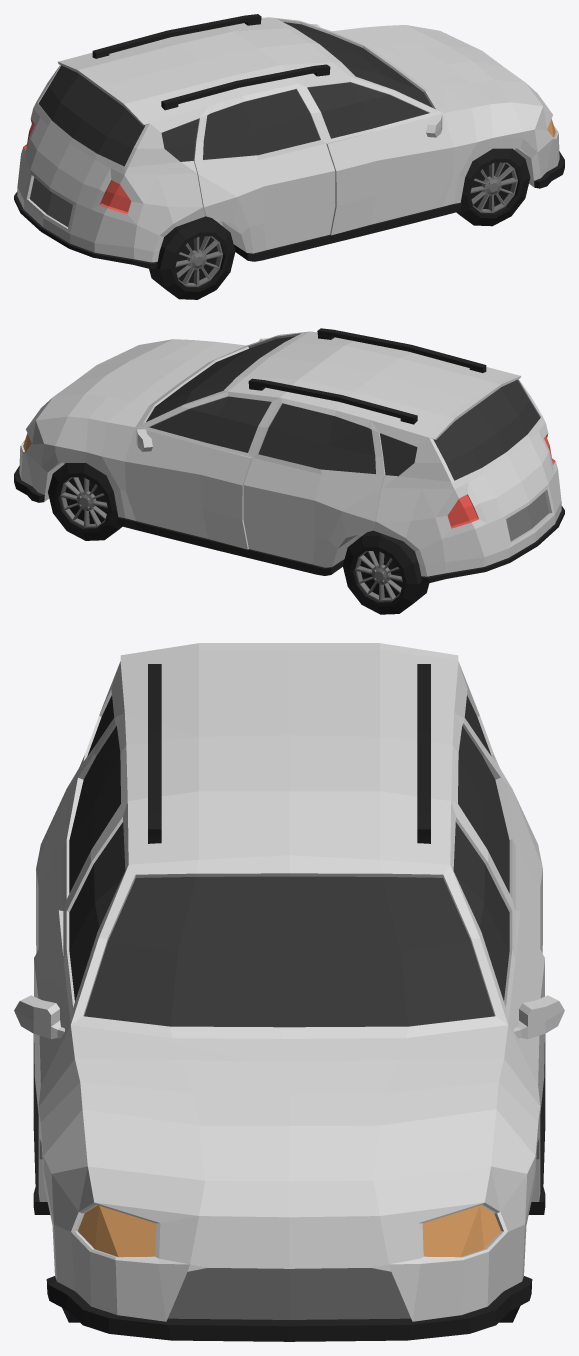
The model's file is suv.glb.
3 renders of one model, top to bottom at view 1: azimuth 30°, elevation 25°; view 2: azimuth 150°, elevation 25°; view 3: azimuth 270°, elevation 25°, orthographic. The views are drawn at different scales.
Parts seen in each view (by area): view 1: SUV; view 2: SUV; view 3: SUV.
Boxes of the visible parts, left/top/right/bottom form: SUV: left=14, top=14, right=564, bottom=299; SUV: left=14, top=328, right=564, bottom=614; SUV: left=14, top=643, right=564, bottom=1341.
Bounding box in the file's own units: 4.21 × 1.53 × 2.11.
